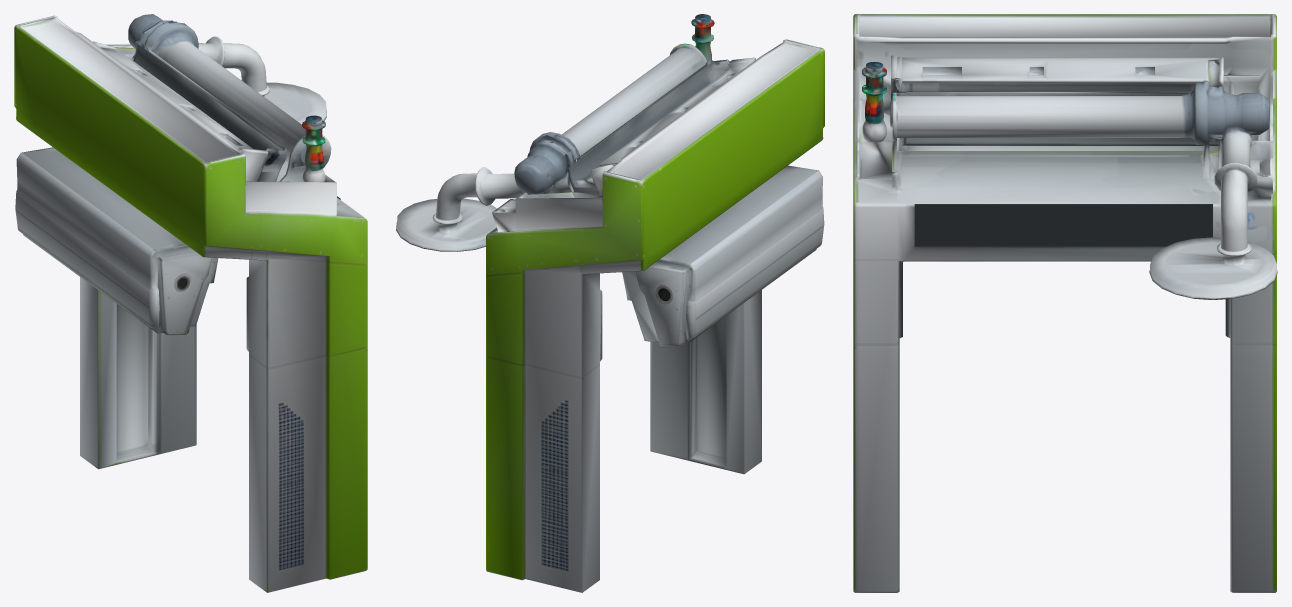
File: JWF0019A-新主体对齐-720贴图-前罩底板削平-2026-07-25.glb
3 renders of one model, left to right at view 1: azimuth 30°, elevation 25°; view 2: azimuth 150°, elevation 25°; view 3: azimuth 270°, elevation 25°, orthographic. The views are drawn at different scales.
Visible parts, largest first — view 1: G2WSMYxhXro_wle7SCTU2.001; view 2: G2WSMYxhXro_wle7SCTU2.001; view 3: G2WSMYxhXro_wle7SCTU2.001.
Part boxes in pixels (x1,y1,x2,y2): G2WSMYxhXro_wle7SCTU2.001: (14, 14, 367, 592); G2WSMYxhXro_wle7SCTU2.001: (396, 14, 824, 592); G2WSMYxhXro_wle7SCTU2.001: (853, 14, 1277, 592).
Size of the model in its own units: 0.6252 by 0.8935 by 0.6821.
1 material, 1 textured.
